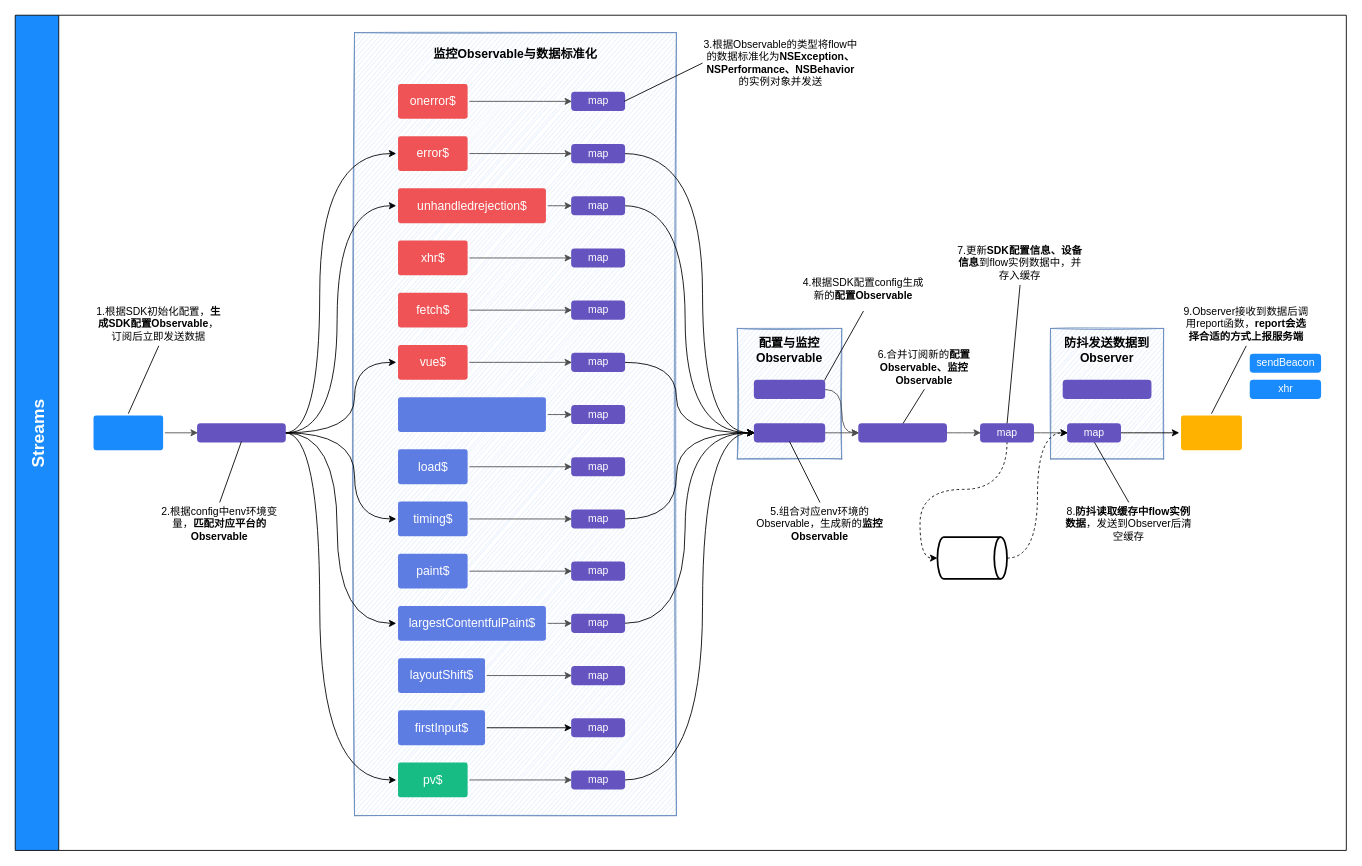
The diagram is 1362 pixels wide and 866 high, and some of its shapes have lost their labels. The shapes that lost their labels are listed below. From the top down, each one's centre as x and y in pixels, then its label:
point 789,388: of
point 1106,388: debounceTime
point 128,432: config$
point 241,432: switchMap
point 471,414: domContentLoaded$
point 789,432: merge
point 902,432: combineLatest
point 1211,432: observer
point 971,557: cache
